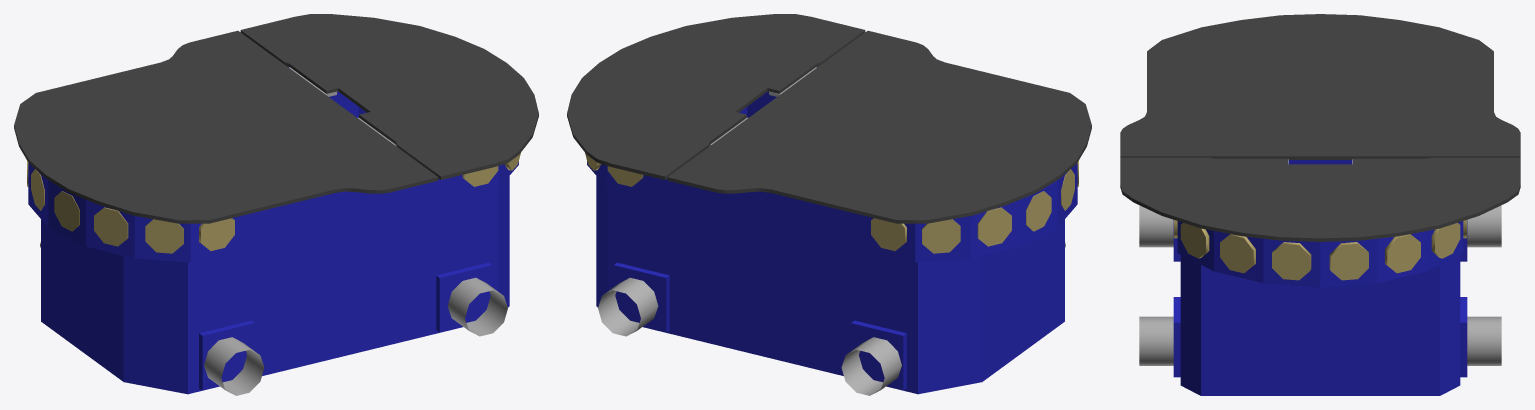
File: chassis.dae
3 renders of one model, left to right at view 1: azimuth 30°, elevation 25°; view 2: azimuth 150°, elevation 25°; view 3: azimuth 270°, elevation 25°, orthographic.
Visible parts, largest first — view 1: Cube_001, Plane_001, Cylinder_001, Plane_007, Plane_002, Plane_006, Plane_005, Cylinder, Cylinder_002; view 2: Cube_001, Plane_001, Cylinder_002, Plane_012, Plane_015, Plane_013, Plane_014, Cylinder_003, Cylinder_001; view 3: Cube_001, Plane_001, Cylinder, Cylinder_003, Plane_007, Plane_012, Plane_002, Plane_015, Plane_006, Plane_013.
Part boxes in pixels (x1,y1,x2,y2): Cube_001: (14,14,538,223); Plane_001: (28,67,518,394); Cylinder_001: (54,191,234,253); Plane_007: (447,277,507,336); Plane_002: (204,337,264,395); Plane_006: (436,262,492,332); Plane_005: (199,320,254,390); Cylinder: (462,153,520,186); Cylinder_002: (27,160,44,210); Cube_001: (567,14,1091,223); Plane_001: (587,67,1077,394); Cylinder_002: (871,191,1051,253); Plane_012: (598,277,658,336); Plane_015: (841,337,901,395); Plane_013: (613,262,669,332); Plane_014: (851,320,906,390); Cylinder_003: (585,153,643,186); Cylinder_001: (1061,160,1078,210); Cube_001: (1120,14,1520,241); Plane_001: (1177,160,1463,395); Cylinder: (1174,220,1311,280); Cylinder_003: (1329,220,1466,280); Plane_007: (1139,316,1173,365); Plane_012: (1467,316,1501,365); Plane_002: (1139,205,1173,247); Plane_015: (1467,205,1501,247); Plane_006: (1173,297,1180,377); Plane_013: (1460,297,1467,377).
Size of the model in its own units: 0.5082 by 0.3831 by 0.1956.
